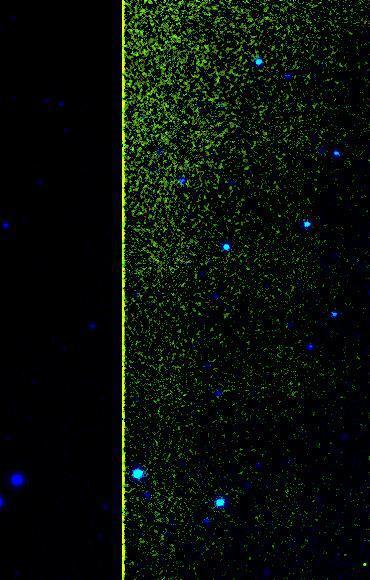star: (349, 549, 370, 579)
